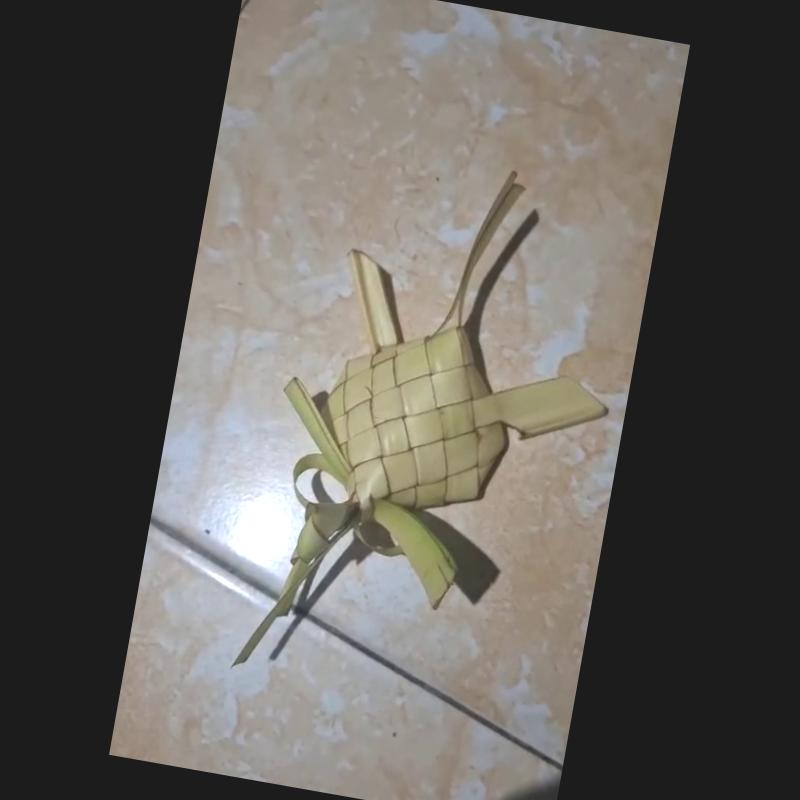Tipat Dampulan: (227, 170, 608, 670)
